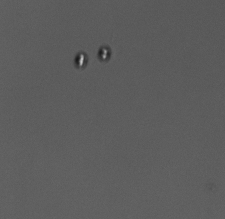Living Cell: (94, 44, 113, 61), (73, 51, 87, 69)
